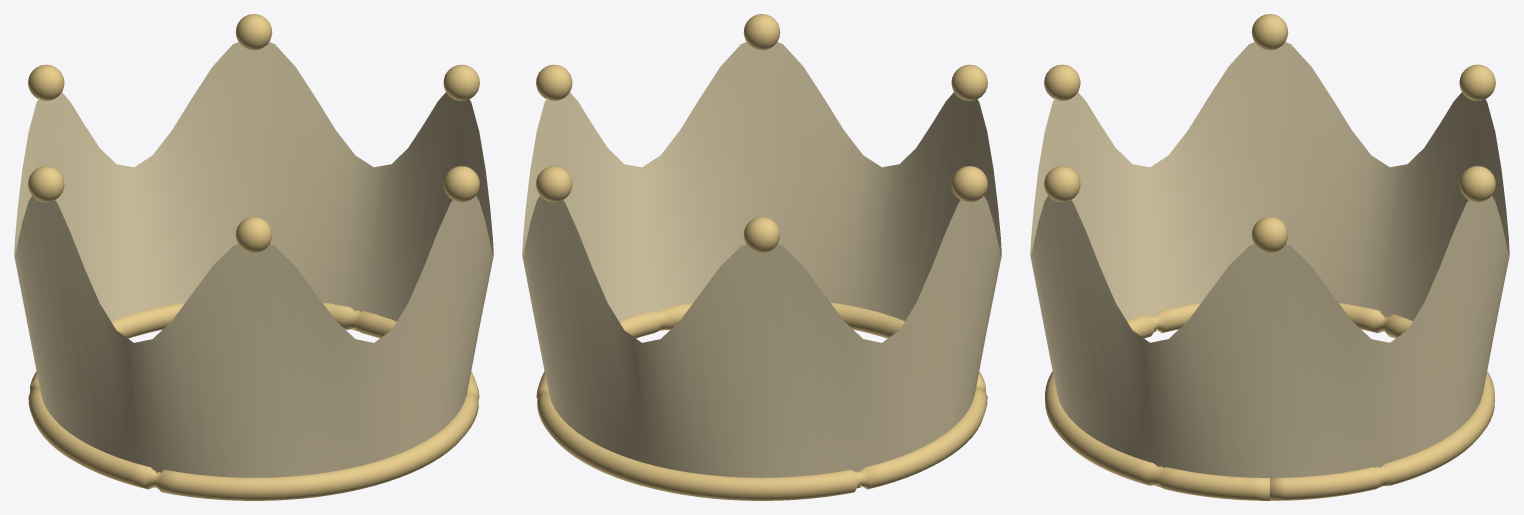
File: celebration-crown.glb
3 views of the same model, side by side, from view 1: azimuth 30°, elevation 25°; view 2: azimuth 150°, elevation 25°; view 3: azimuth 270°, elevation 25° (orthographic).
Parts seen in each view (by area): view 1: crown-0, base-1, tips-2; view 2: crown-0, base-1, tips-2; view 3: crown-0, base-1, tips-2.
Part boxes in pixels (x1,y1,x2,y2): crown-0: (14, 42, 493, 477); base-1: (28, 302, 479, 500); tips-2: (28, 14, 479, 252); crown-0: (522, 42, 1001, 477); base-1: (536, 302, 987, 500); tips-2: (536, 14, 987, 252); crown-0: (1030, 42, 1509, 477); base-1: (1045, 303, 1494, 500); tips-2: (1044, 14, 1495, 252).
Bounding box in the file's own units: 1.27 × 0.795 × 1.18.
